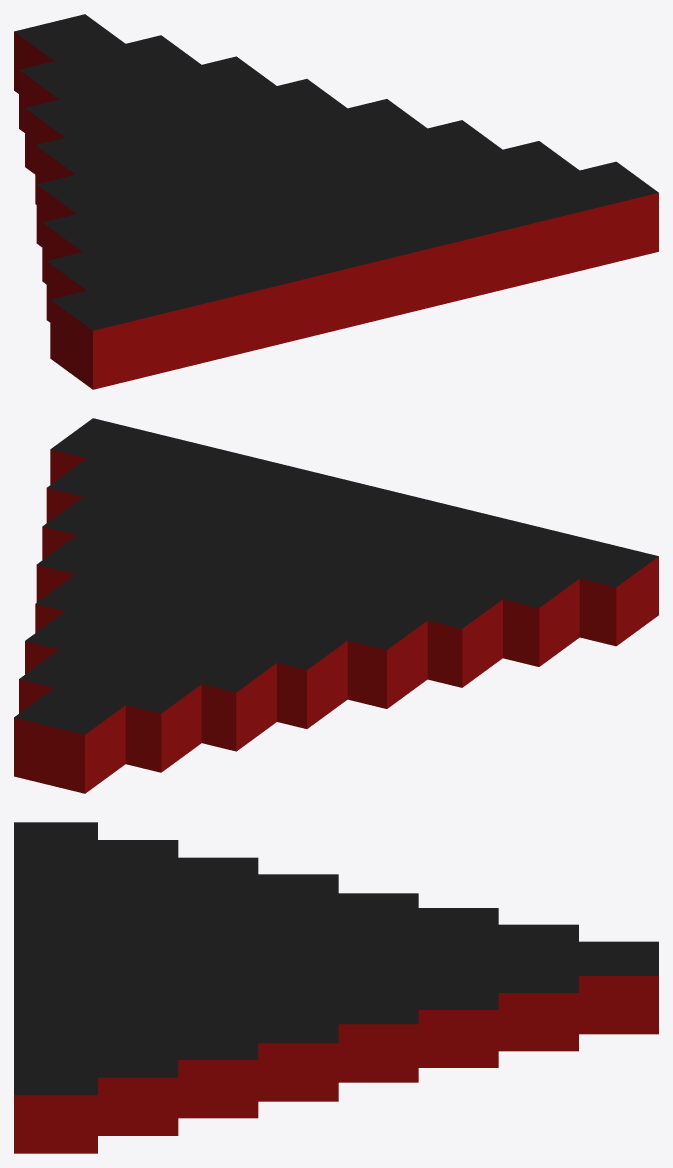
File: Player_8Bit.FBX
The picture shows the model from 3 angles, top to bottom: view 1: azimuth 30°, elevation 25°; view 2: azimuth 150°, elevation 25°; view 3: azimuth 270°, elevation 25°; orthographic projection.
Parts seen in each view (by area): view 1: Box002; view 2: Box002; view 3: Box002.
Boxes of the visible parts, left/top/right/bottom form: Box002: left=14, top=14, right=658, bottom=389; Box002: left=14, top=418, right=658, bottom=793; Box002: left=14, top=822, right=658, bottom=1153.
Bounding box in the file's own units: 164 × 16.32 × 164.
